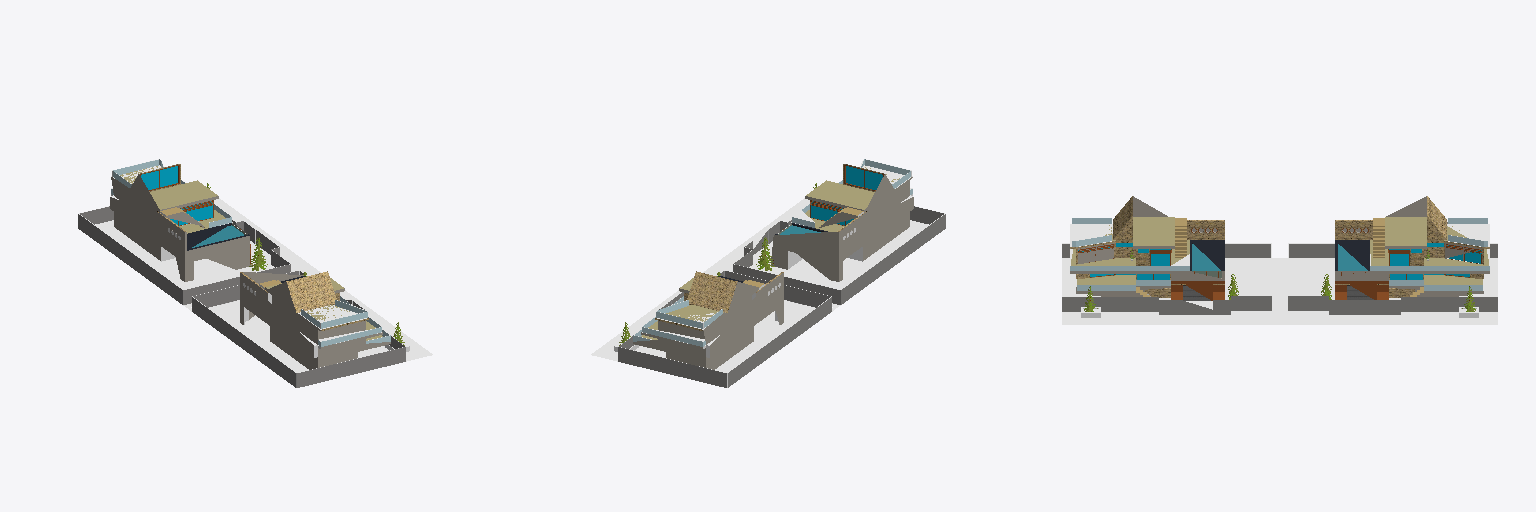
3 renders of one model, left to right at view 1: azimuth 30°, elevation 25°; view 2: azimuth 150°, elevation 25°; view 3: azimuth 270°, elevation 25°, orthographic.
Visible parts, largest first — view 1: Mesh368 Group2 Component1 Model, Mesh184 Group1 Component1 Model; view 2: Mesh184 Group1 Component1 Model, Mesh368 Group2 Component1 Model; view 3: Mesh368 Group2 Component1 Model, Mesh184 Group1 Component1 Model.
Boxes of the visible parts, x1=… form: Mesh368 Group2 Component1 Model: x1=78, y1=159, x2=320, y2=307; Mesh184 Group1 Component1 Model: x1=188, y1=270, x2=432, y2=387; Mesh184 Group1 Component1 Model: x1=703, y1=159, x2=945, y2=307; Mesh368 Group2 Component1 Model: x1=591, y1=270, x2=835, y2=387; Mesh368 Group2 Component1 Model: x1=1280, y1=196, x2=1497, y2=324; Mesh184 Group1 Component1 Model: x1=1062, y1=196, x2=1279, y2=324.
Size of the model in its own units: 74.34 by 40.39 by 205.
Materials: 19 (2 with a texture image).